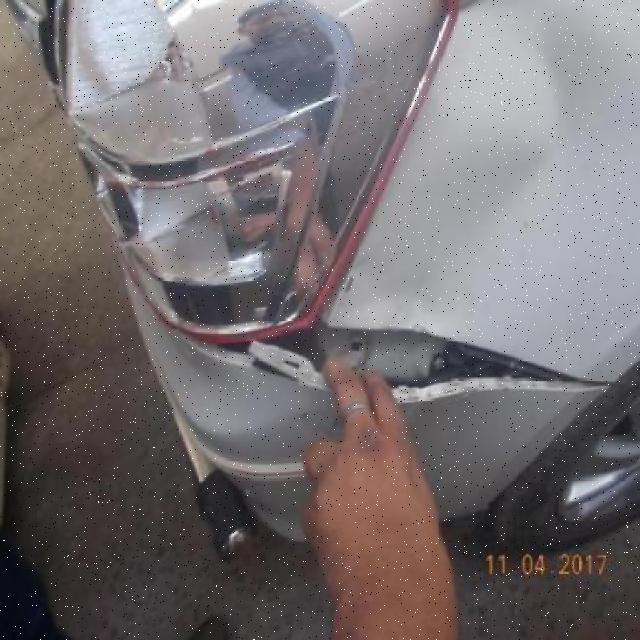damage: (59, 7, 453, 331), (209, 324, 609, 401)
